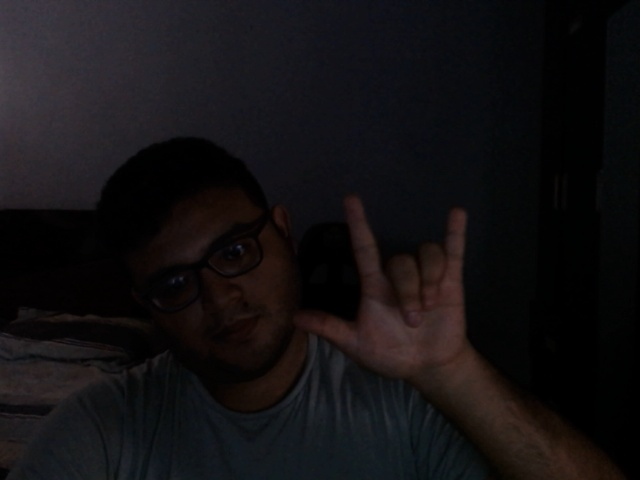I love you: (287, 196, 489, 385)
